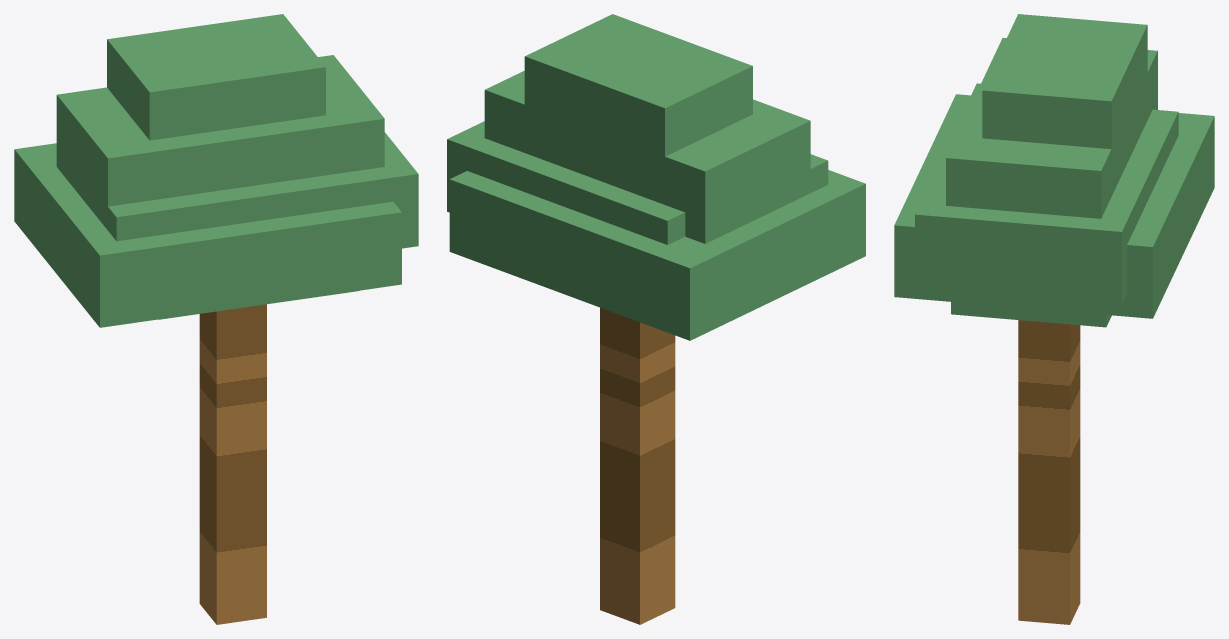
The model's file is tree_4.glb.
The picture shows the model from 3 angles, left to right: view 1: azimuth 30°, elevation 25°; view 2: azimuth 150°, elevation 25°; view 3: azimuth 270°, elevation 25°; orthographic projection.
Parts seen in each view (by area): view 1: pl0; view 2: pl0; view 3: pl0.
Part boxes in pixels (box(x1,y1,x2,y2)): pl0: box(14, 14, 418, 624); pl0: box(447, 14, 865, 624); pl0: box(894, 14, 1214, 624).
Size of the model in its own units: 14.51 by 23 by 12.15.
1 material, 1 textured.
